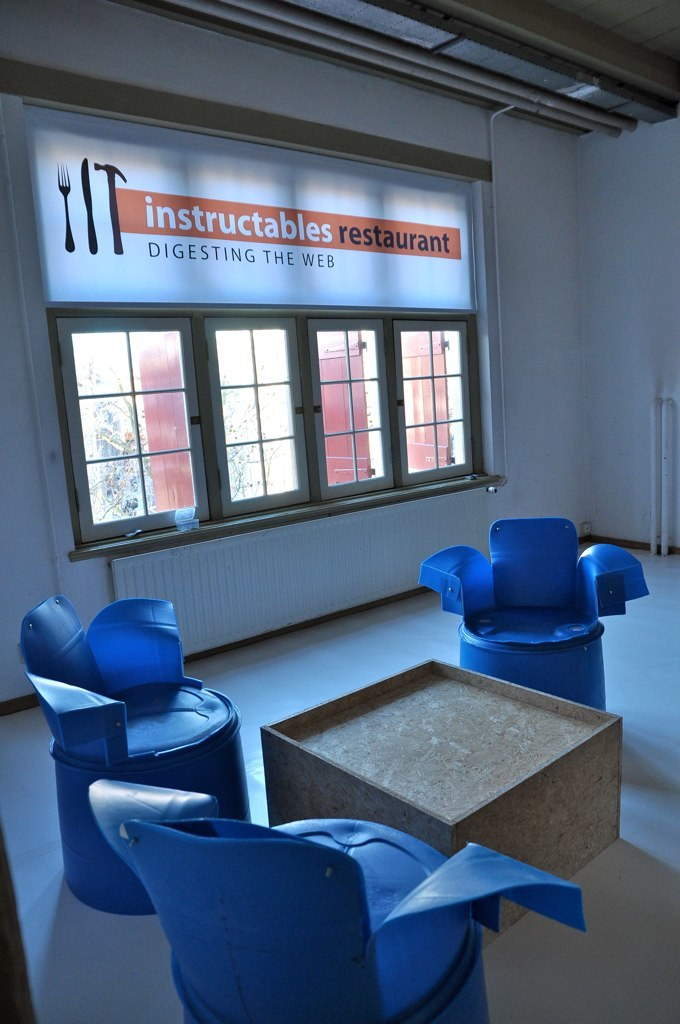Chair: (89, 779, 593, 1023), (17, 596, 252, 919), (445, 516, 635, 682)
